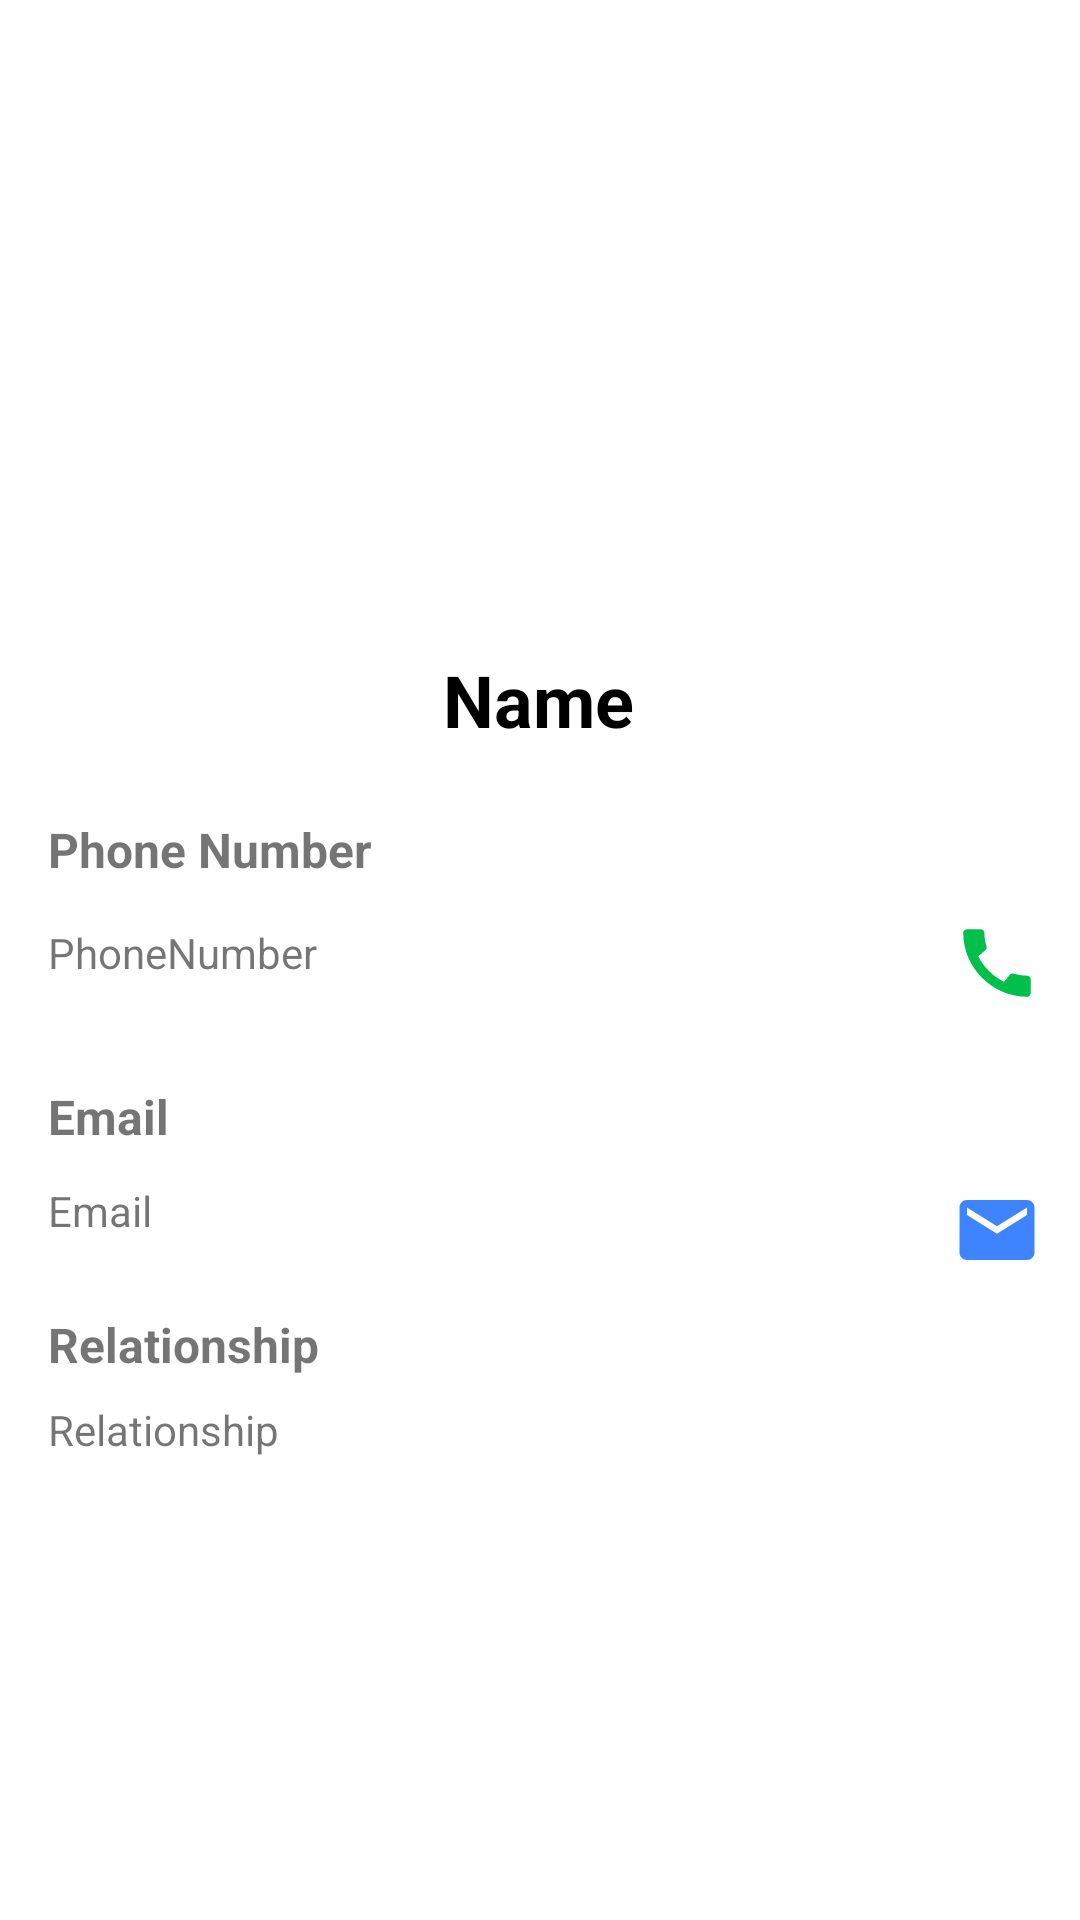

Icons on this 1080 × 1920 Android screen, each with its box as bbox=[x1, y1, x2, y2]:
call: bbox=[963, 929, 1031, 997]
